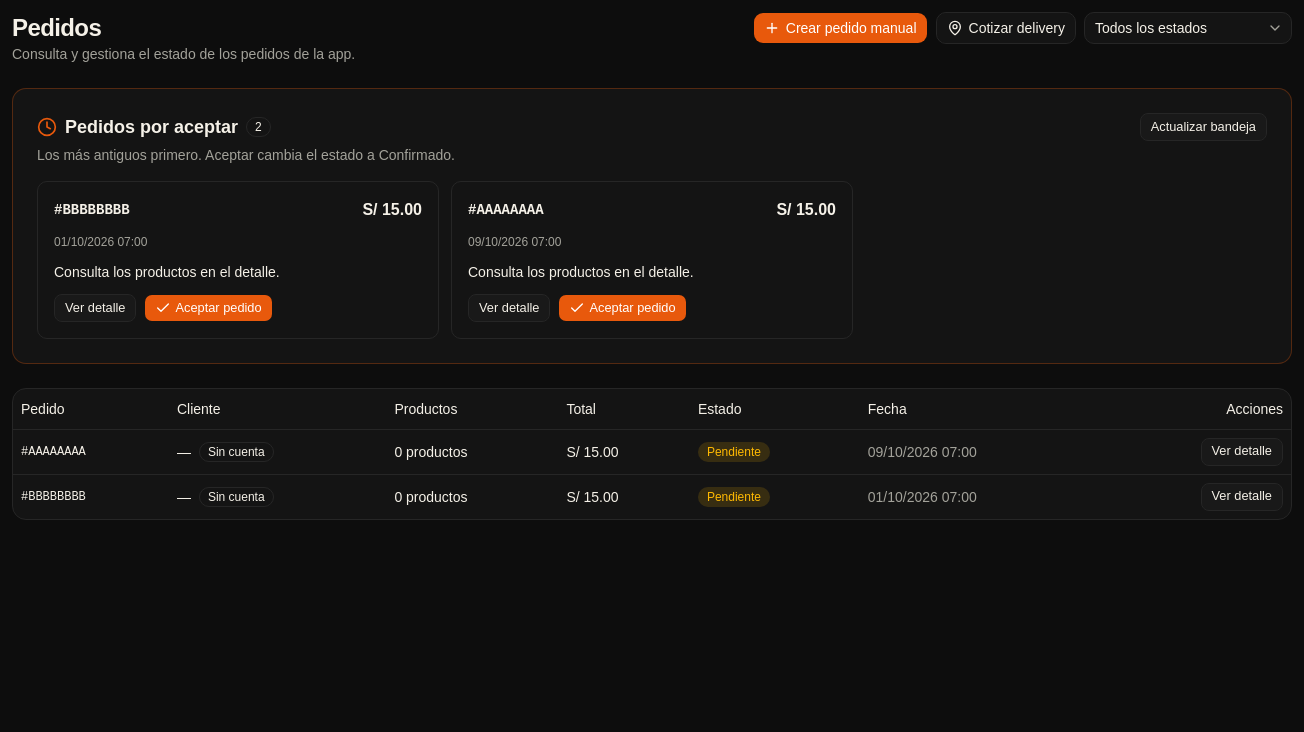
Test case: keeps pending orders visible when the general table is filtered
Expected: the element named "Pedido #BBBBBBBB" is shown, [37, 181, 439, 339]
Step 1. Click the dropdown named "Filtrar por estado" → (1188, 28), box [1084, 12, 1292, 44]
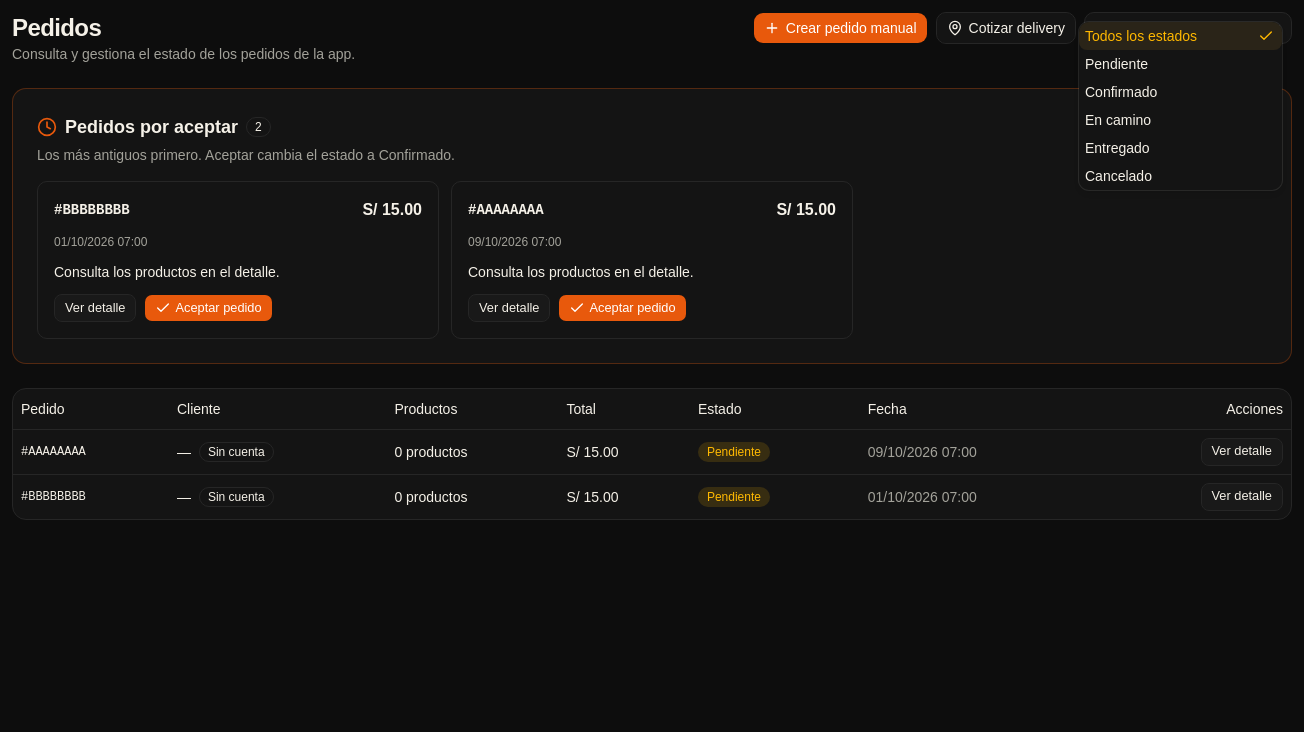
Step 2. Click the option "Entregado" → (1117, 148), box [1085, 140, 1150, 156]
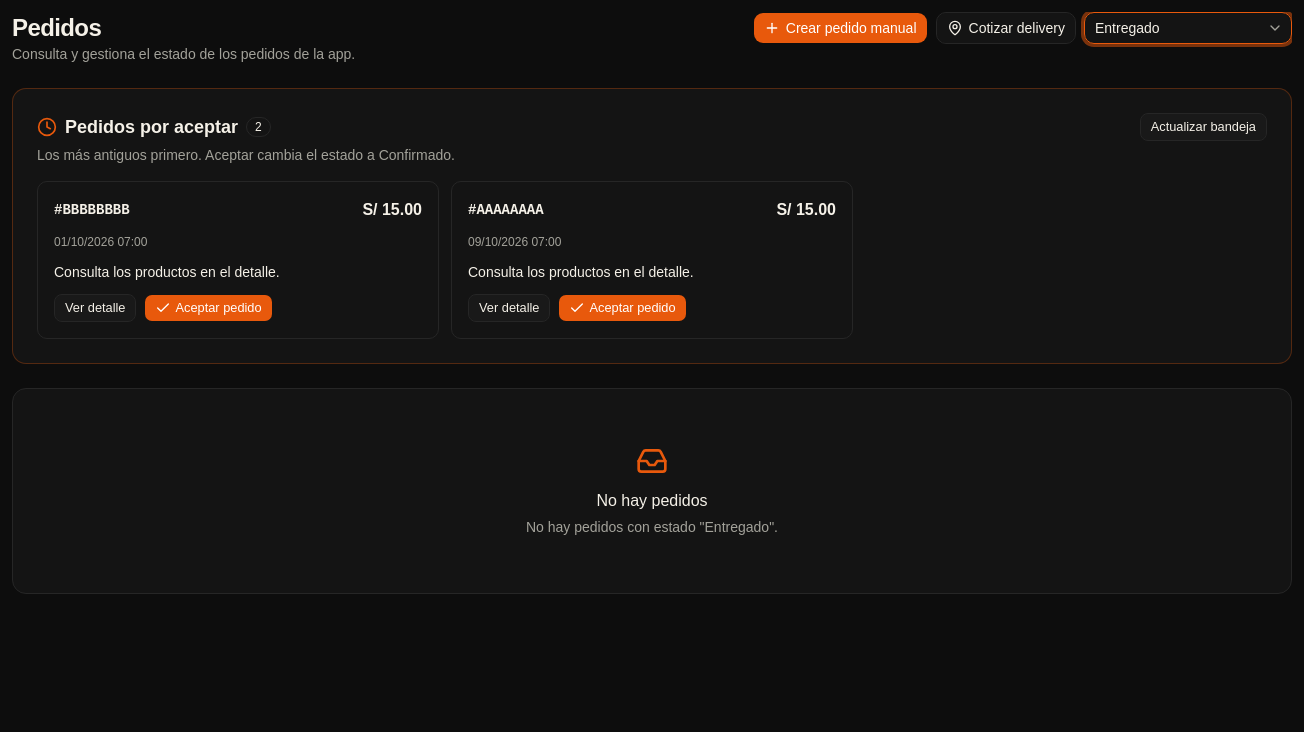
Expected: the icon named "Cantidad de pedidos por aceptar" reads "2", [255, 120, 262, 134]
Expected: the text "No hay pedidos" is shown, [596, 492, 708, 509]
